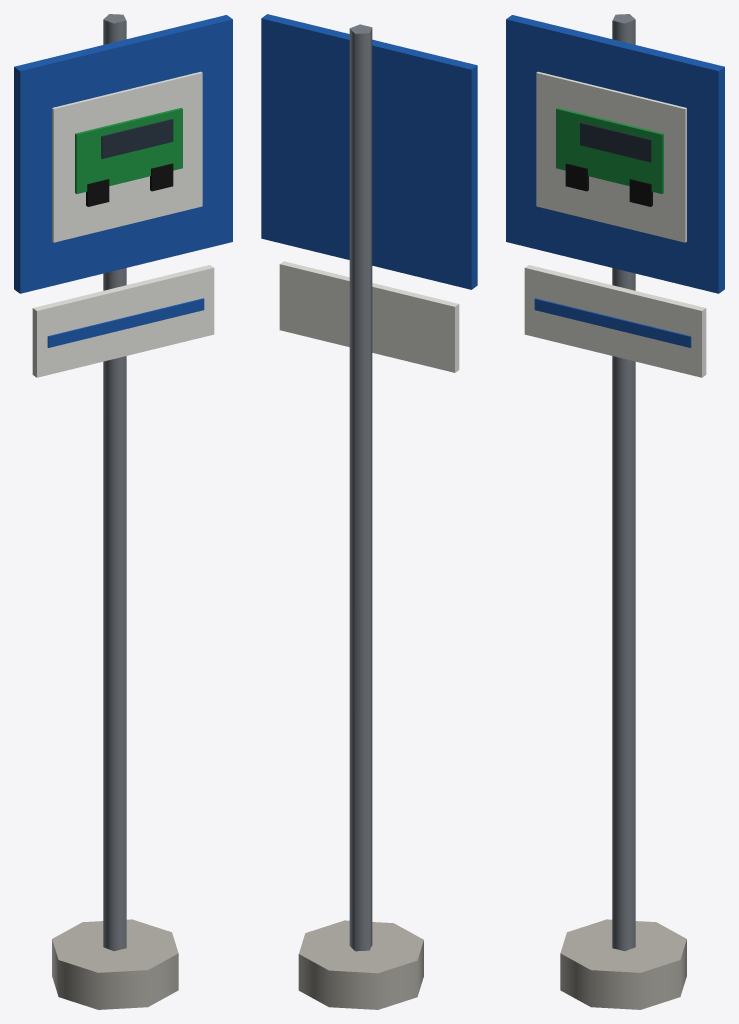
The model's file is rambu_angkot.glb.
3 renders of one model, left to right at view 1: azimuth 30°, elevation 25°; view 2: azimuth 150°, elevation 25°; view 3: azimuth 330°, elevation 25°, orthographic.
Parts seen in each view (by area): view 1: body; view 2: body; view 3: body.
Boxes of the visible parts, x1,y1,x2,y2 form: body: [14, 14, 232, 1009]; body: [261, 14, 477, 1009]; body: [506, 14, 724, 1009].
Size of the model in its own units: 0.6 by 2.6 by 0.32.
